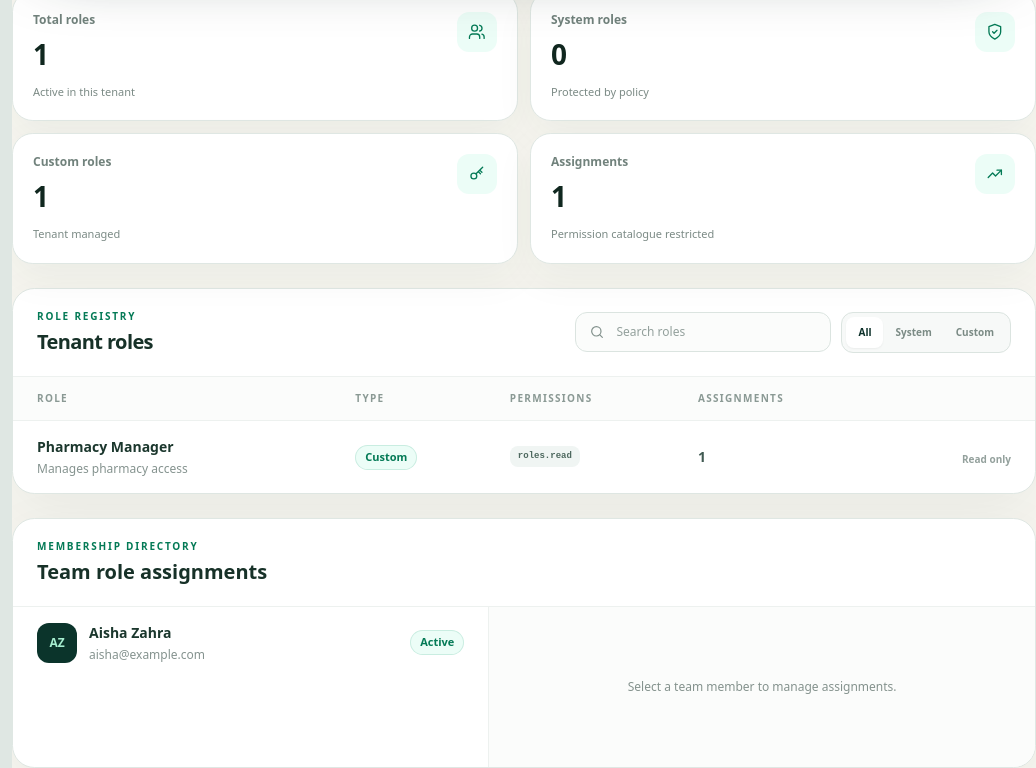
TeamAccessWorkspace permission-aware interactions › renders assignment access as read-only without management permission
The image size is (1036, 768).
(page scrolled)
Click the button "AZ Aisha Zahra aisha@example.com Active". click: (57, 642)
box: [13, 606, 488, 678]
(page scrolled)
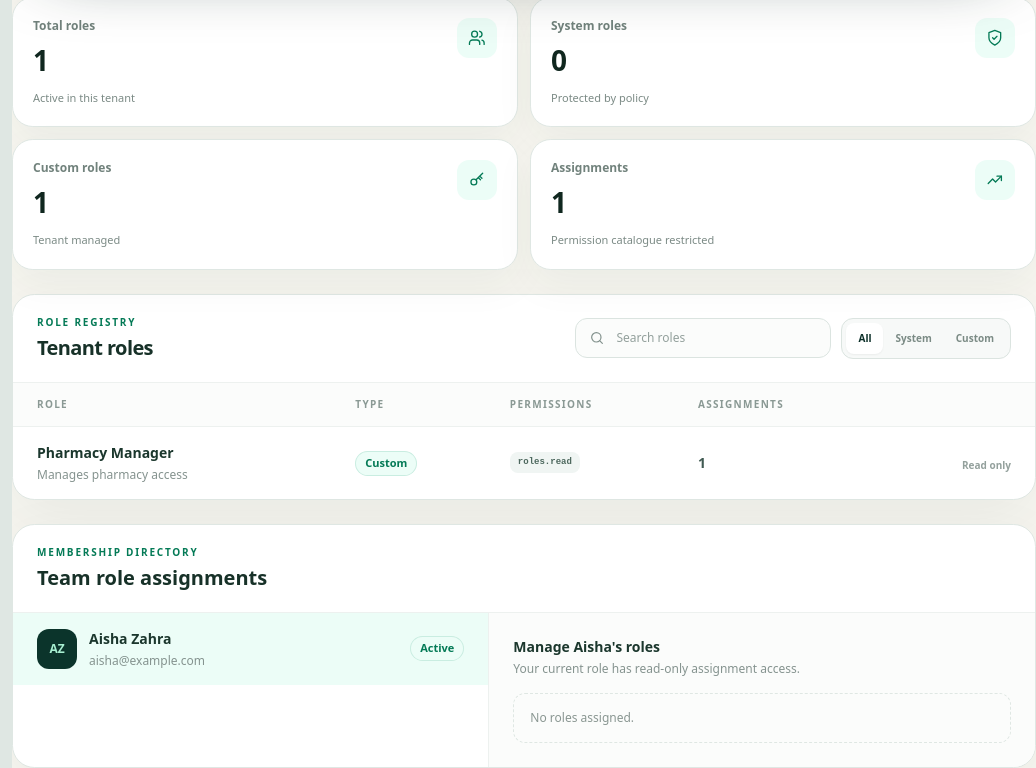
expect the text "Your current role has read-only assignment access." is shown: met, box [513, 660, 800, 676]
